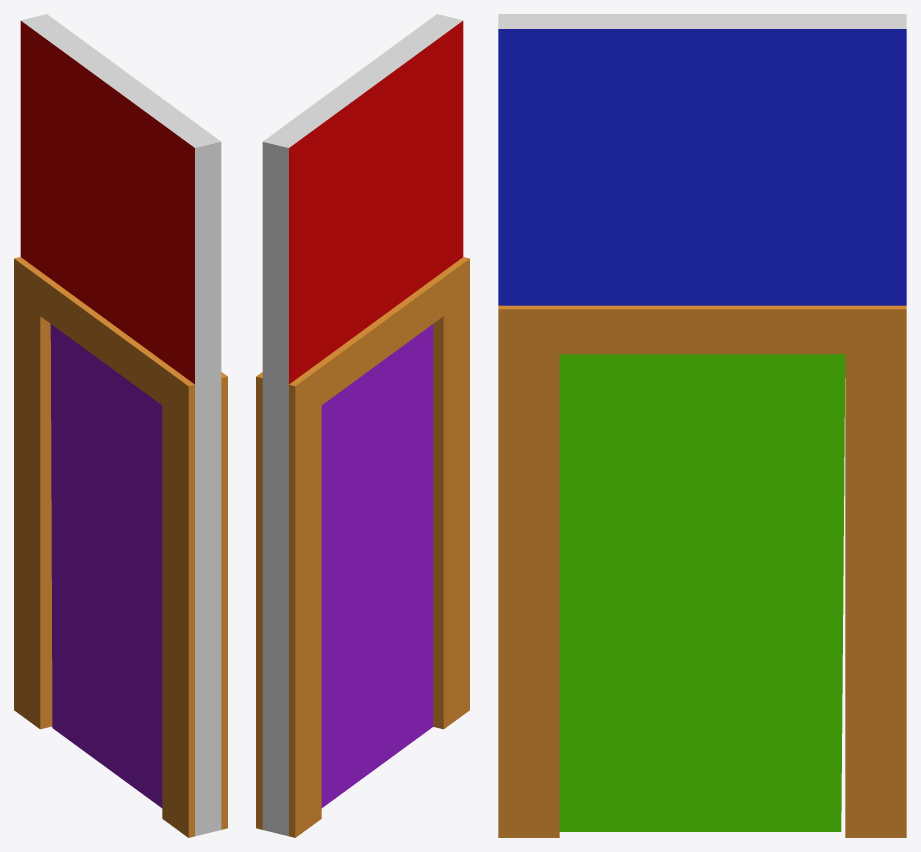
Rendered from Mesh_wall_door_doorframe_Final.fbx.
3 renders of one model, left to right at view 1: azimuth 30°, elevation 25°; view 2: azimuth 150°, elevation 25°; view 3: azimuth 270°, elevation 25°, orthographic. The views are drawn at different scales.
Parts seen in each view (by area): view 1: mesh_wall_door, mesh_door; view 2: mesh_wall_door, mesh_door; view 3: mesh_wall_door, mesh_door.
Boxes of the visible parts, left/top/right/bottom form: mesh_wall_door: left=14, top=14, right=227, bottom=837; mesh_door: left=50, top=324, right=162, bottom=807; mesh_wall_door: left=256, top=14, right=469, bottom=837; mesh_door: left=321, top=324, right=433, bottom=807; mesh_wall_door: left=498, top=14, right=906, bottom=837; mesh_door: left=559, top=354, right=845, bottom=831.
Bounding box in the file's own units: 60.01 × 1000 × 460.
